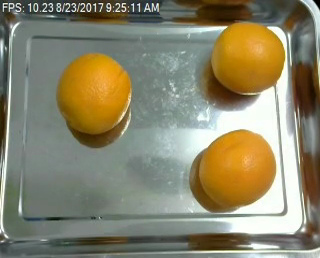Orange: (198, 129, 276, 207), (56, 53, 131, 133), (211, 20, 285, 93)
